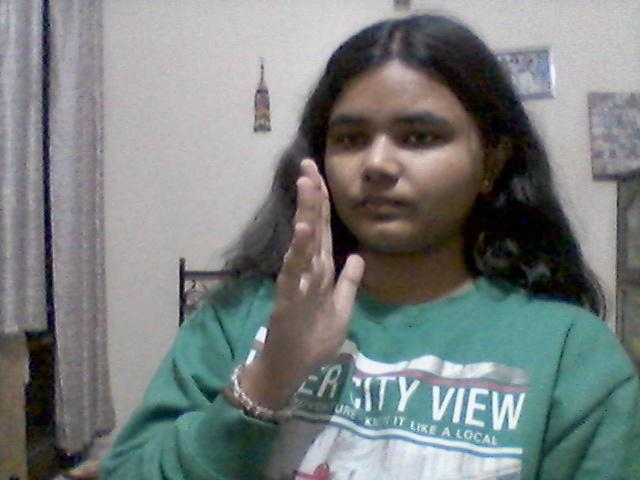fine: (216, 155, 381, 421)
